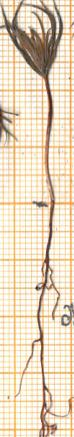flower: (0, 0, 70, 81)
root: (8, 204, 73, 437)
stem: (35, 82, 58, 206)
